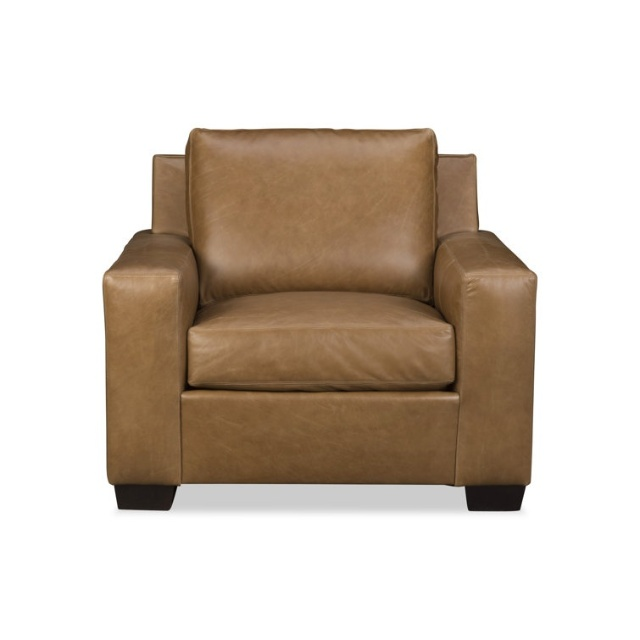obstacle: (103, 129, 536, 509)
